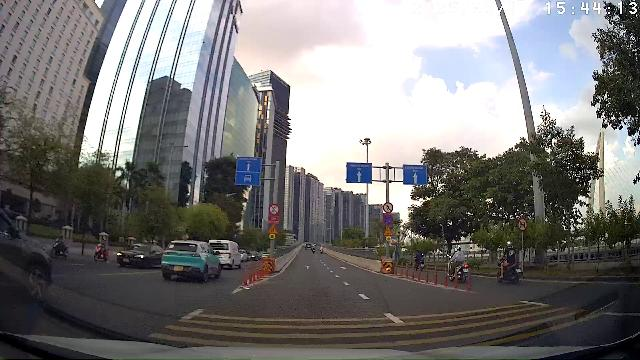103a-cam-oto: (517, 217, 528, 232)
130-cam-dung-va-do-xe: (383, 214, 394, 226)
